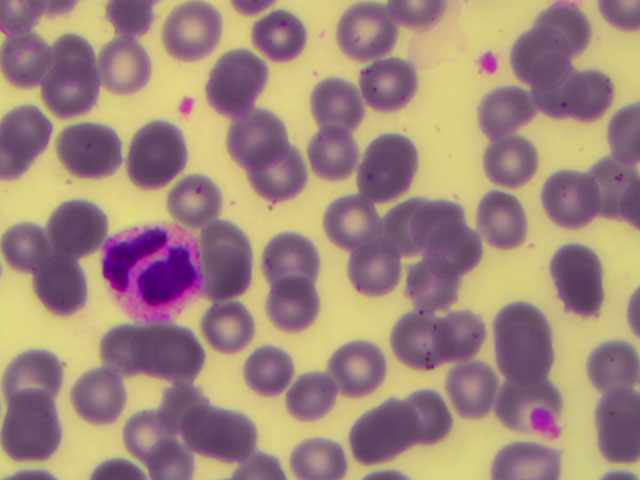Platelets: (532, 408, 558, 436), (477, 53, 497, 74), (180, 97, 193, 118)
RBC: (1, 385, 60, 459), (245, 142, 308, 202), (226, 106, 289, 166), (538, 170, 601, 230), (493, 296, 556, 356), (509, 25, 572, 85), (94, 34, 157, 94), (498, 374, 561, 434), (493, 325, 556, 385), (124, 121, 187, 181), (189, 399, 252, 459), (141, 323, 204, 383), (44, 196, 107, 256), (57, 117, 120, 177), (1, 346, 63, 406), (334, 1, 397, 60), (34, 253, 86, 319), (476, 82, 538, 135), (357, 59, 420, 111), (197, 236, 250, 297), (67, 367, 125, 422), (264, 233, 320, 287), (167, 1, 220, 56), (124, 408, 180, 459), (402, 387, 450, 445), (483, 137, 537, 188), (475, 192, 524, 248), (249, 10, 306, 57), (162, 379, 215, 429), (312, 77, 360, 131), (271, 277, 319, 331), (592, 377, 640, 431), (588, 339, 636, 393), (450, 368, 498, 422), (439, 305, 487, 359), (408, 256, 456, 310), (434, 219, 482, 273), (415, 194, 463, 248), (379, 197, 427, 251), (327, 196, 375, 250), (350, 240, 398, 294), (374, 395, 422, 449), (347, 406, 395, 460), (397, 313, 445, 367), (333, 338, 381, 392), (288, 366, 336, 420), (248, 344, 296, 398), (206, 304, 254, 358), (591, 388, 639, 442), (172, 168, 220, 222), (49, 29, 97, 83), (48, 61, 96, 115), (220, 36, 268, 90), (539, 3, 587, 57), (566, 64, 614, 118), (535, 65, 583, 119), (589, 158, 637, 212), (364, 133, 415, 183), (207, 65, 258, 115), (1, 31, 48, 85), (1, 103, 48, 157), (203, 217, 251, 268), (101, 323, 146, 375), (310, 127, 354, 180), (494, 445, 560, 480), (358, 153, 406, 201), (554, 239, 598, 291), (1, 220, 45, 271), (293, 438, 343, 480), (145, 438, 193, 480), (558, 268, 602, 309), (1, 125, 33, 181), (591, 425, 640, 460), (608, 107, 640, 160), (231, 452, 286, 480), (106, 1, 148, 37), (389, 1, 447, 27), (597, 1, 640, 32), (91, 457, 145, 480), (1, 1, 41, 30), (621, 283, 640, 335), (227, 1, 279, 19), (1, 465, 57, 480), (358, 468, 415, 480), (35, 1, 72, 19), (597, 466, 640, 480)
WBC: (102, 222, 206, 321)
